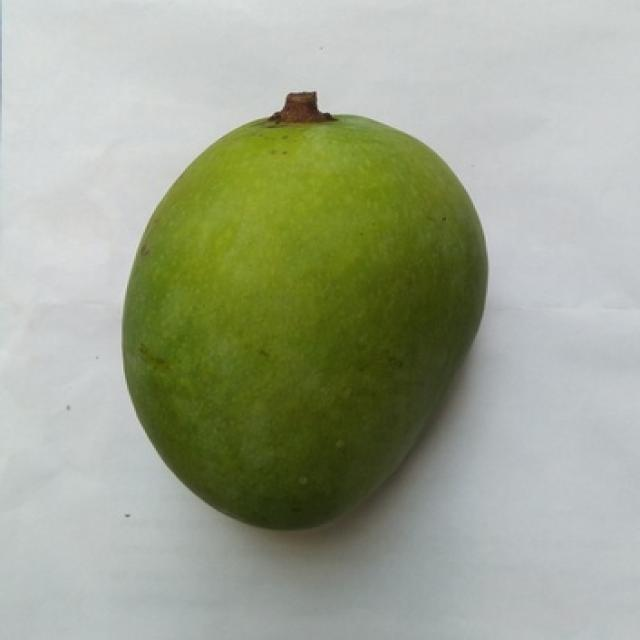Mango: (125, 107, 486, 528)
